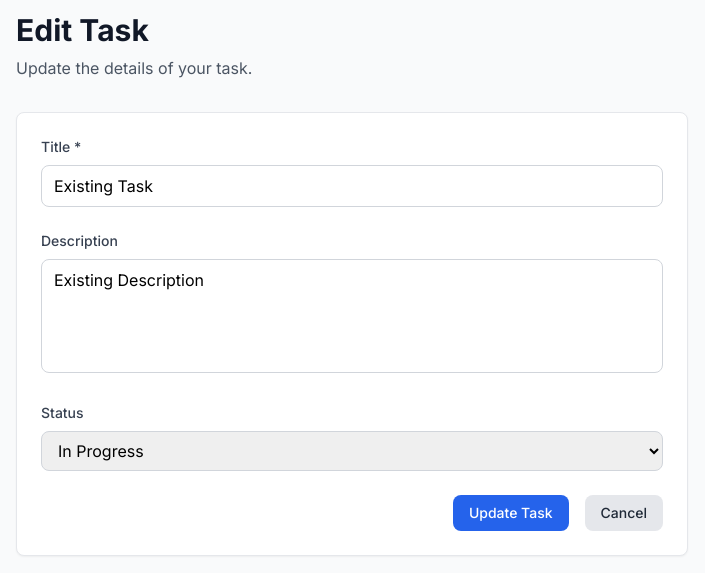
Test: EditTaskPage › shows loading state during update
Check: the field showing "Existing Task" is shown, box [41,165,663,207]
Click the button "Update Task": (511, 513) [453,495,568,531]
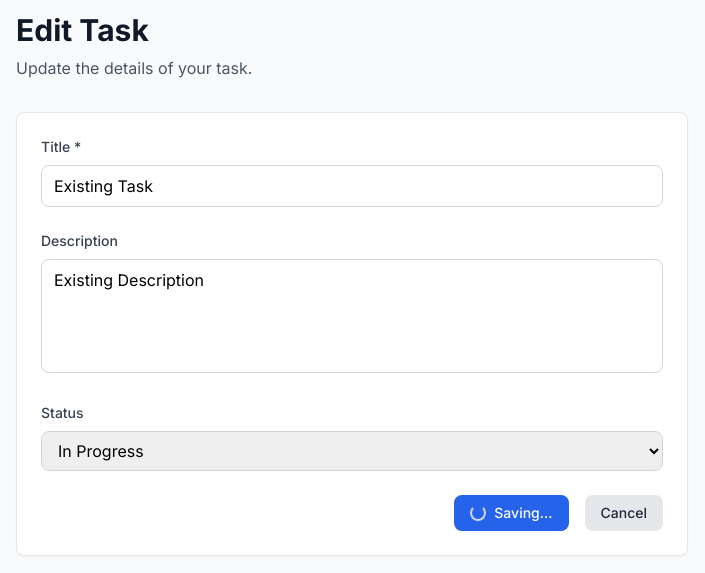
Check: the button "Saving..." is shown, box [454,495,568,531]
